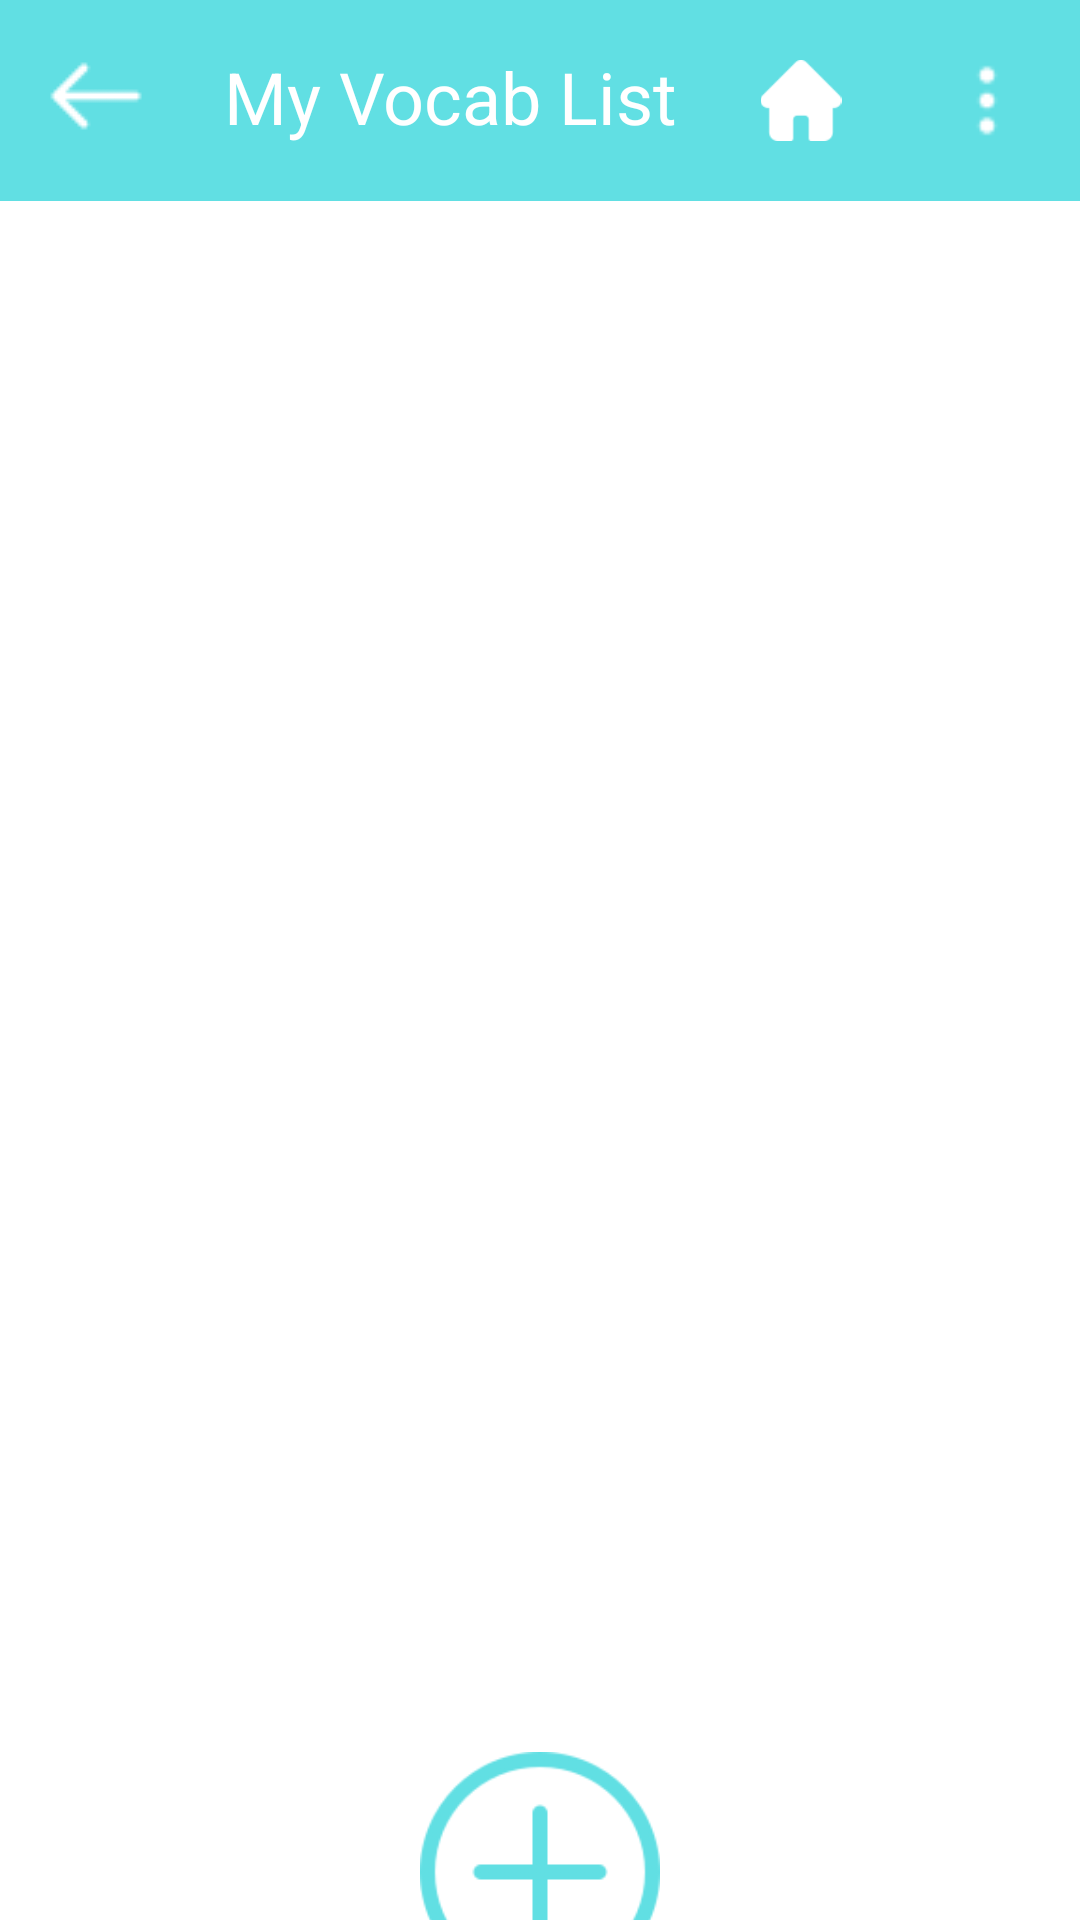

Named icons in this screenshot (1080px×1920px) and their centers, [x,y]:
back: [96,96]
dots: [987,100]
home: [801,100]
